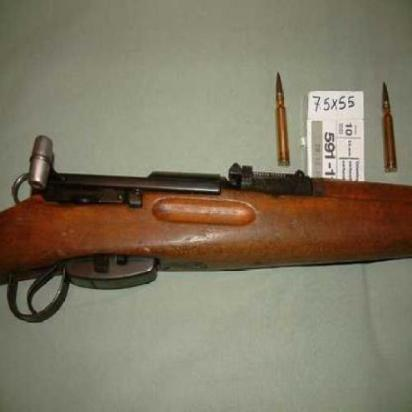Gun: (0, 132, 411, 325)
